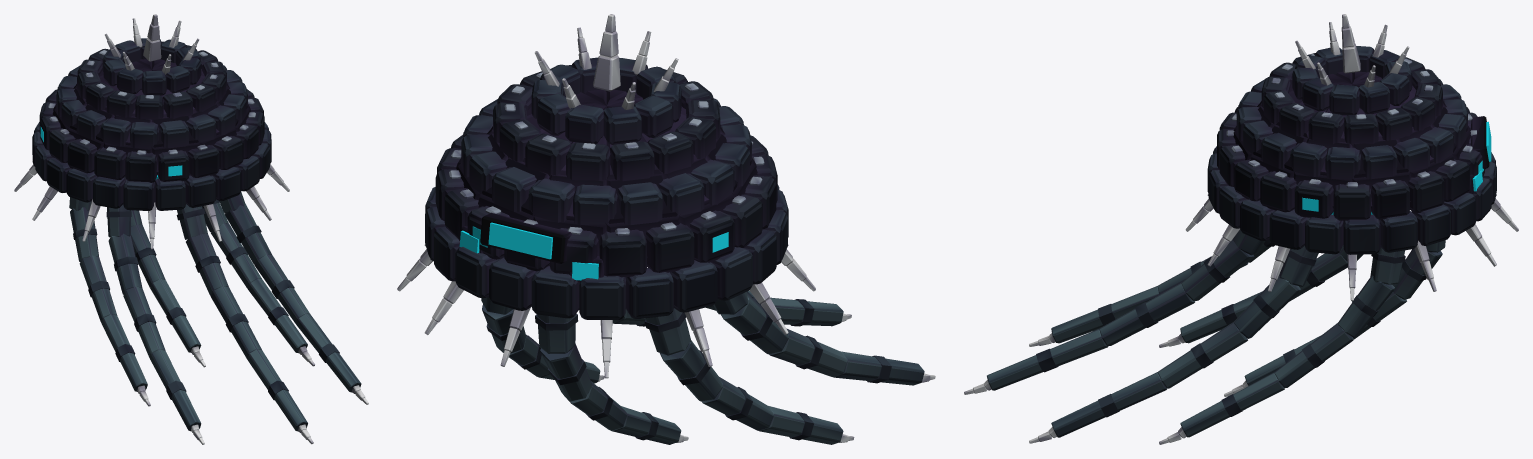
The model's file is Glimwisp.glb.
3 views of the same model, side by side, from view 1: azimuth 30°, elevation 25°; view 2: azimuth 150°, elevation 25°; view 3: azimuth 270°, elevation 25° (orthographic). The views are drawn at different scales.
Parts seen in each view (by area): view 1: Body__Tex, Body__Tex2, Tent5_4__Tex, Tent6_4__Tex, Tent4_4__Tex, Tent1_4__Tex, Tent3_4__Tex, Tent5_3__Tex, Tent2_4__Tex, Tent6_3__Tex, Tent4_3__Tex, Tent5_2__Tex (+8 smaller); view 2: Body__Tex, Body__Tex2, Body__Glow, Tent4_4__Tex, Tent4_3__Tex, Tent3_4__Tex, Tent3_2__Tex, Tent4_2__Tex, Tent3_3__Tex, Tent2_2__Tex, Tent5_4__Tex, Tent2_4__Tex (+5 smaller); view 3: Body__Tex2, Body__Tex, Tent5_4__Tex, Tent6_4__Tex, Tent1_4__Tex, Tent5_3__Tex, Tent6_3__Tex, Tent4_4__Tex, Tent1_3__Tex, Tent5_2__Tex, Tent6_2__Tex, Tent1_2__Tex (+8 smaller).
Part boxes in pixels (<box>): Body__Tex: <box>14,14,221,249</box>; Body__Tex2: <box>115,14,289,241</box>; Tent5_4__Tex: <box>247,349,313,444</box>; Tent6_4__Tex: <box>296,314,368,404</box>; Tent4_4__Tex: <box>150,349,204,444</box>; Tent1_4__Tex: <box>247,278,314,366</box>; Tent3_4__Tex: <box>101,314,150,406</box>; Tent5_3__Tex: <box>210,286,261,358</box>; Tent2_4__Tex: <box>150,279,205,367</box>; Tent6_3__Tex: <box>254,254,310,323</box>; Tent4_3__Tex: <box>123,286,165,358</box>; Tent5_2__Tex: <box>186,233,228,295</box>; Body__Tex: <box>481,14,815,378</box>; Body__Tex2: <box>397,14,635,366</box>; Body__Glow: <box>459,222,728,280</box>; Tent4_4__Tex: <box>833,351,935,385</box>; Tent4_3__Tex: <box>769,328,847,376</box>; Tent3_4__Tex: <box>758,406,854,444</box>; Tent3_2__Tex: <box>660,340,722,401</box>; Tent4_2__Tex: <box>721,293,788,354</box>; Tent3_3__Tex: <box>701,377,773,430</box>; Tent2_2__Tex: <box>540,343,592,401</box>; Tent5_4__Tex: <box>770,297,851,326</box>; Tent2_4__Tex: <box>611,406,688,444</box>; Body__Tex2: <box>1186,14,1518,300</box>; Body__Tex: <box>1185,14,1518,229</box>; Tent5_4__Tex: <box>964,329,1108,394</box>; Tent6_4__Tex: <box>1029,372,1166,443</box>; Tent1_4__Tex: <box>1159,372,1284,444</box>; Tent5_3__Tex: <box>1099,283,1195,345</box>; Tent6_3__Tex: <box>1157,322,1247,388</box>; Tent4_4__Tex: <box>1029,286,1158,346</box>; Tent1_3__Tex: <box>1274,323,1353,387</box>; Tent5_2__Tex: <box>1181,239,1254,300</box>; Tent6_2__Tex: <box>1233,273,1300,338</box>; Tent1_2__Tex: <box>1337,275,1394,337</box>.
Bounding box in the file's own units: 4.12 × 5.22 × 6.86.
